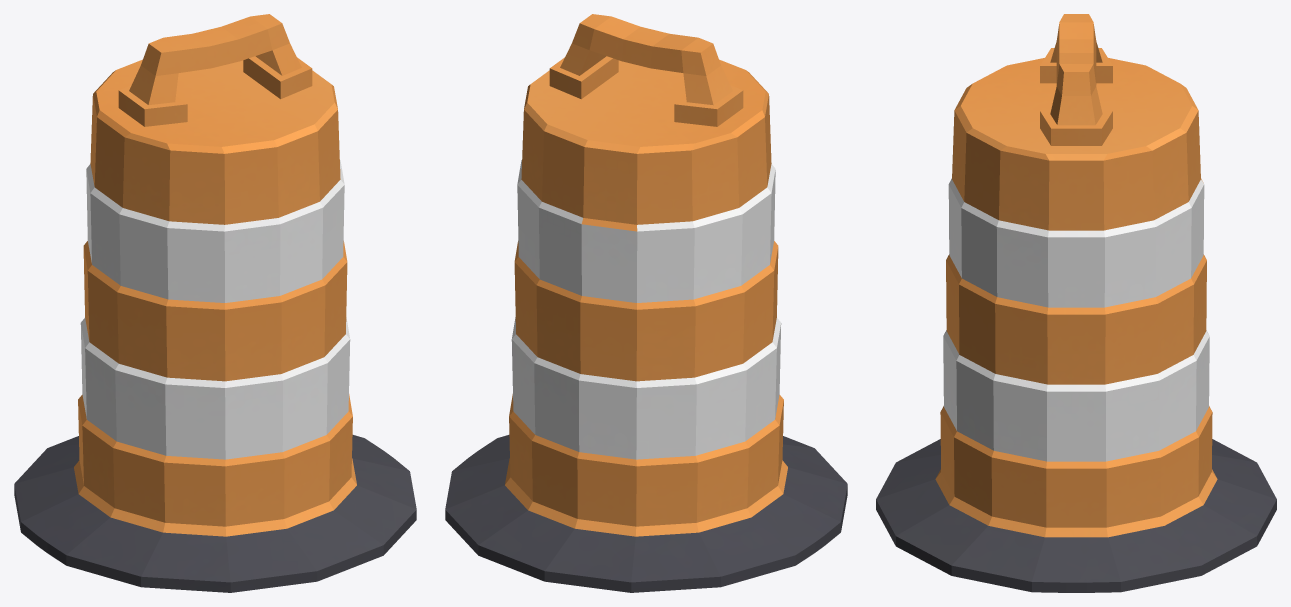
The model's file is traffic_barell_1.glb.
3 views of the same model, side by side, from view 1: azimuth 30°, elevation 25°; view 2: azimuth 150°, elevation 25°; view 3: azimuth 270°, elevation 25° (orthographic).
Parts seen in each view (by area): view 1: traffic_barell_1; view 2: traffic_barell_1; view 3: traffic_barell_1.
Part boxes in pixels (<box>): traffic_barell_1: <box>14,14,416,592</box>; traffic_barell_1: <box>445,14,847,592</box>; traffic_barell_1: <box>876,14,1276,592</box>.
Size of the model in its own units: 1.77 by 2.32 by 1.8.
1 material, 1 textured.
